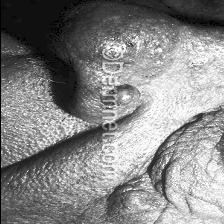Unclassified: (13, 137, 89, 196), (135, 43, 224, 92), (129, 100, 174, 188), (134, 19, 170, 76)
